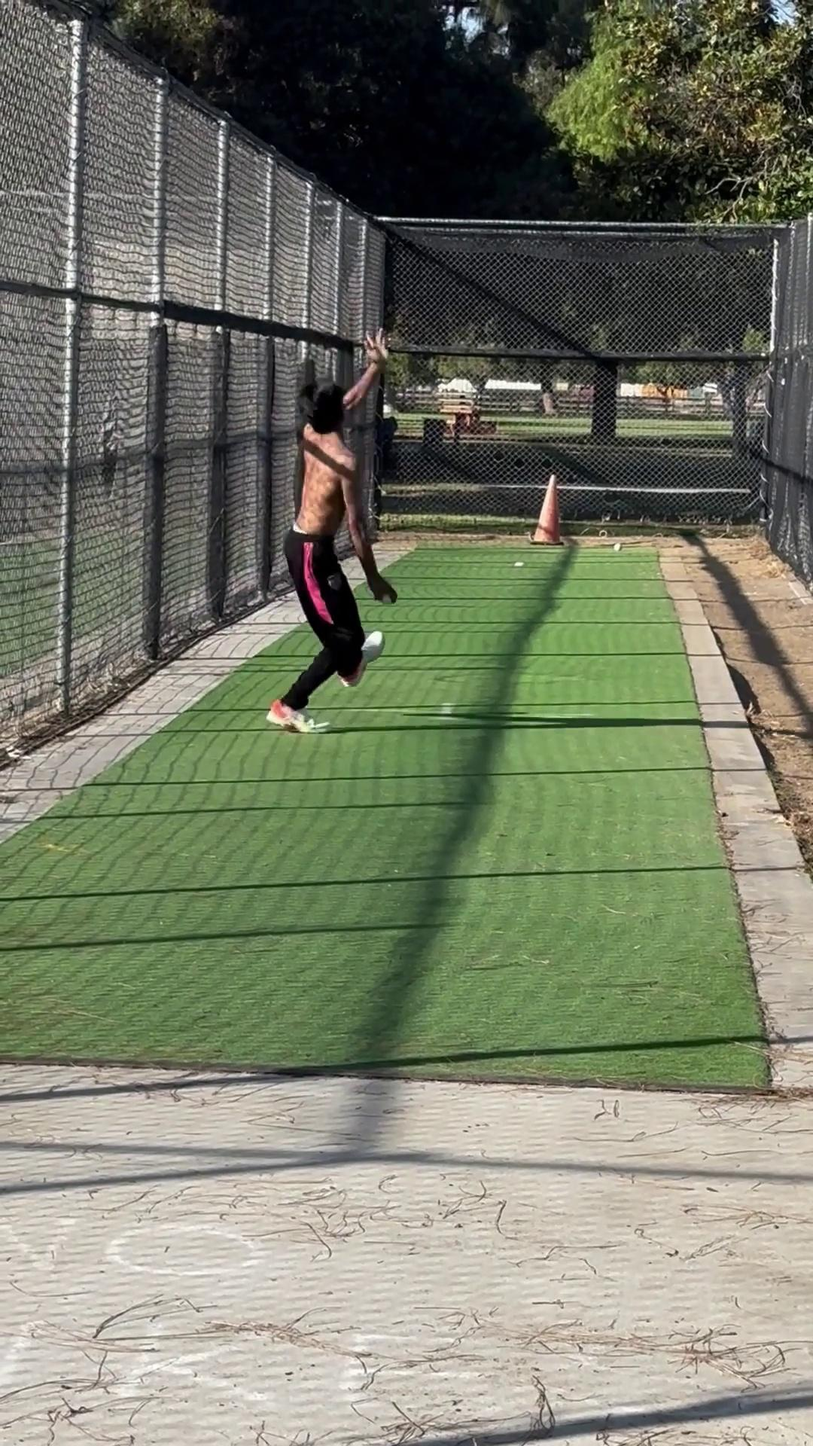ball: (370, 584, 404, 612)
